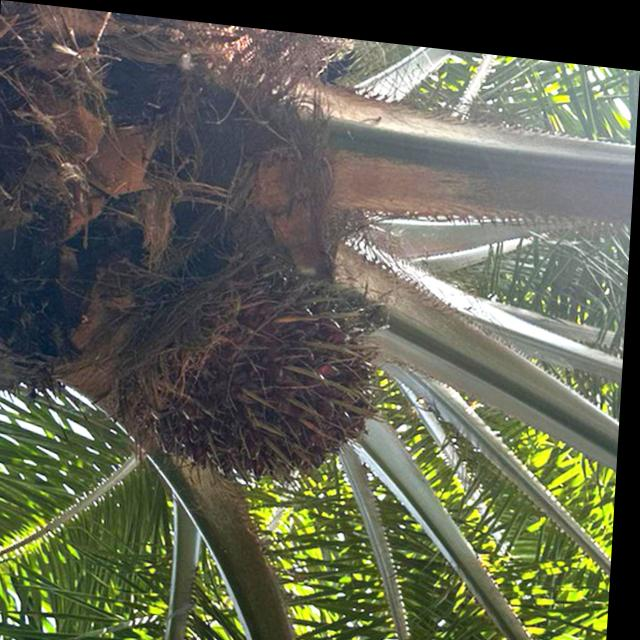ripe: (106, 223, 409, 508)
